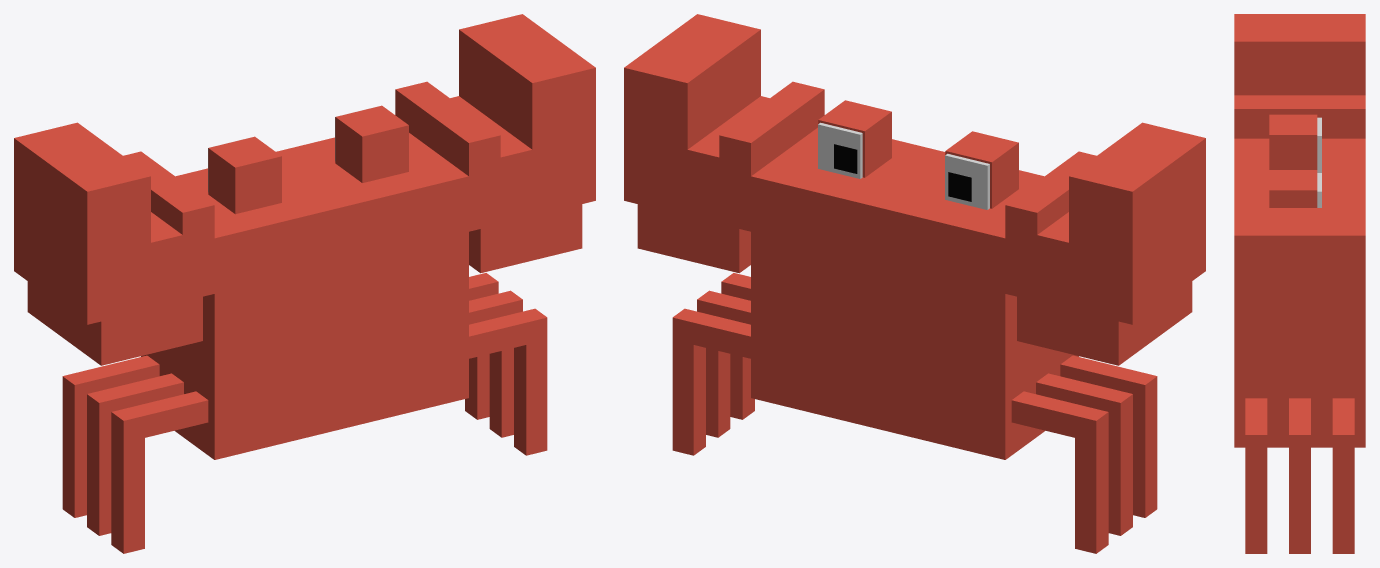
File: Crab.fbx
3 views of the same model, side by side, from view 1: azimuth 30°, elevation 25°; view 2: azimuth 150°, elevation 25°; view 3: azimuth 270°, elevation 25° (orthographic). The views are drawn at different scales.
Parts seen in each view (by area): view 1: Body, Crow_R, Crow_L, Leg_R_03, Leg_L_03, Leg_R_01, Leg_R_02, Eyelid_R, Eyelid_L, Leg_L_02, Leg_L_01; view 2: Body, Crow_R, Crow_L, Leg_R_01, Leg_L_01, Leg_R_03, Leg_R_02, Leg_L_02, Eyelid_L, Eyelid_R, Eye_L, Eye_R (+1 smaller); view 3: Crow_L, Crow_R, Body, Leg_L_01, Leg_L_03, Leg_L_02, Eyelid_R, Eyelid_L, Eye_R.
Boxes of the visible parts, x1,y1,x2,y2 form: Body: (141,133,468,459); Crow_R: (14,122,214,365); Crow_L: (395,14,595,273); Leg_R_03: (111,391,208,553); Leg_L_03: (469,308,547,455); Leg_R_01: (62,355,159,517); Leg_R_02: (87,373,183,535); Eyelid_R: (208,136,281,214); Eyelid_L: (335,105,408,182); Leg_L_02: (469,290,522,437); Leg_L_01: (465,273,498,419); Body: (751,127,1078,459); Crow_R: (1005,122,1205,365); Crow_L: (624,14,824,273); Leg_R_01: (1011,391,1108,553); Leg_L_01: (672,308,750,455); Leg_R_03: (1060,355,1157,517); Leg_R_02: (1036,373,1132,535); Leg_L_02: (697,290,750,437); Eyelid_L: (818,100,891,177); Eyelid_R: (945,131,1018,208); Eye_L: (818,122,862,178); Eye_R: (945,153,989,209); Crow_L: (1234,208,1365,388); Crow_R: (1234,14,1365,138); Body: (1234,138,1365,447); Leg_L_01: (1332,398,1354,553); Leg_L_03: (1245,398,1267,553); Leg_L_02: (1289,398,1310,553); Eyelid_R: (1269,114,1317,169); Eyelid_L: (1269,170,1317,207); Eye_R: (1317,117,1321,172).
Size of the model in its own units: 120 by 85 by 30.
